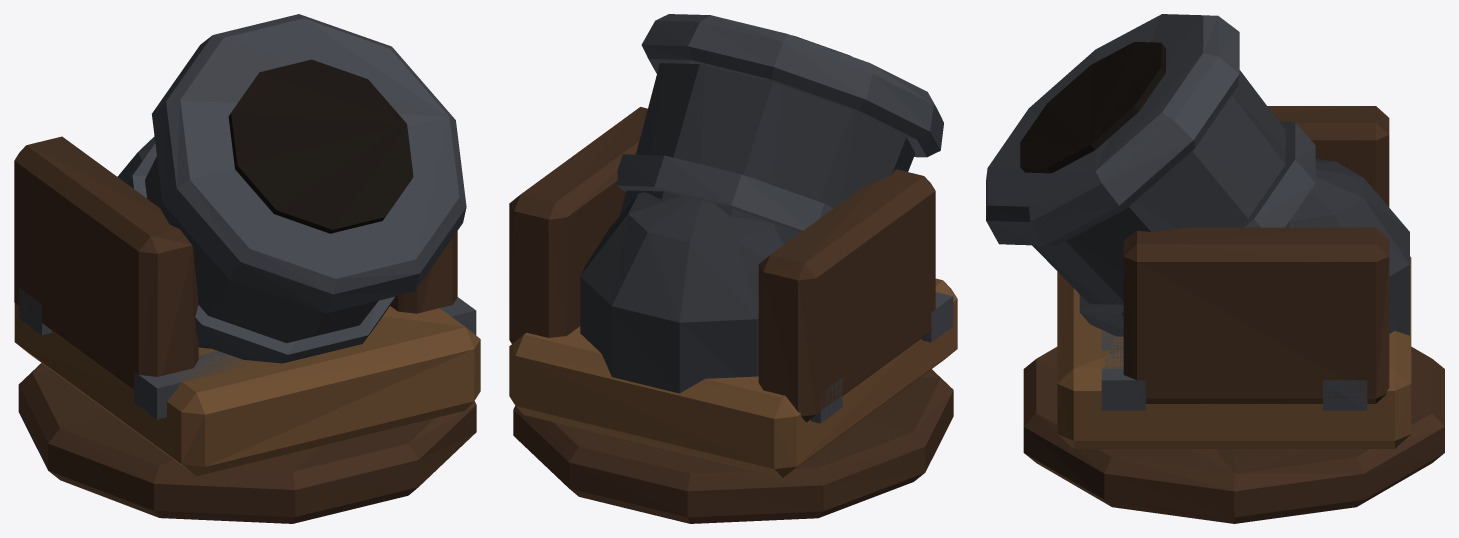
File: iron_mortar_head.glb
The picture shows the model from 3 angles, left to right: view 1: azimuth 30°, elevation 25°; view 2: azimuth 150°, elevation 25°; view 3: azimuth 270°, elevation 25°; orthographic projection. The views are drawn at different scales.
Visible parts, largest first — view 1: iron_mortar_head; view 2: iron_mortar_head; view 3: iron_mortar_head.
Part boxes in pixels (left/top/right/bottom): iron_mortar_head: left=14, top=14, right=480, bottom=523; iron_mortar_head: left=509, top=14, right=957, bottom=523; iron_mortar_head: left=986, top=14, right=1444, bottom=523.
Size of the model in its own units: 0.4 by 0.4007 by 0.4145.
